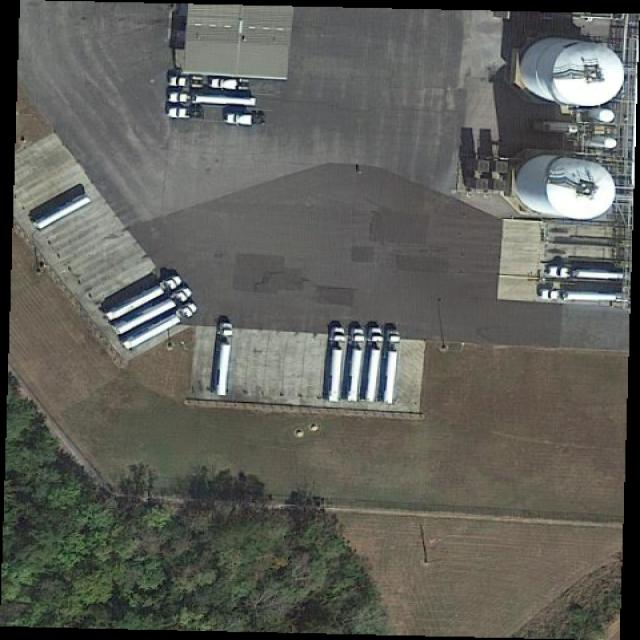large-vehicle: (121, 300, 200, 352), (104, 275, 183, 323), (113, 288, 193, 335), (213, 324, 233, 397), (169, 91, 257, 107), (328, 328, 347, 402), (383, 331, 401, 406), (365, 330, 383, 403), (348, 327, 365, 403), (541, 291, 628, 303), (548, 269, 625, 281), (168, 108, 207, 120), (209, 79, 251, 90), (169, 77, 205, 87)
storage-tank: (521, 36, 625, 106), (515, 154, 617, 221)
